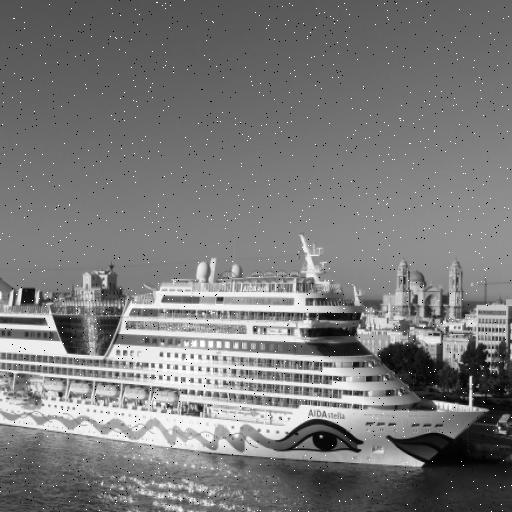cruises: (1, 231, 492, 474)
